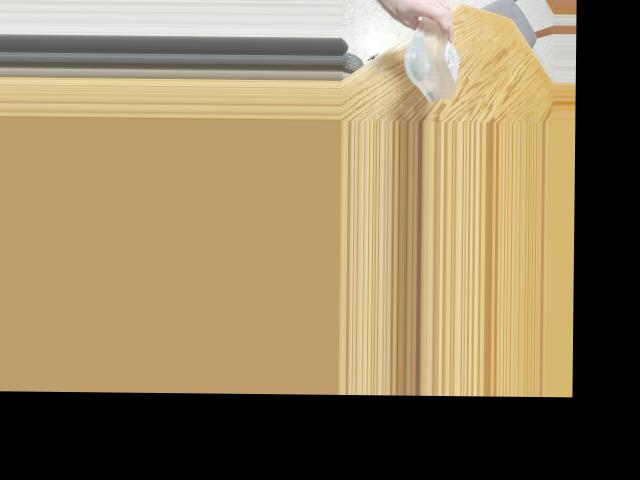cheese: (408, 0, 462, 103)
